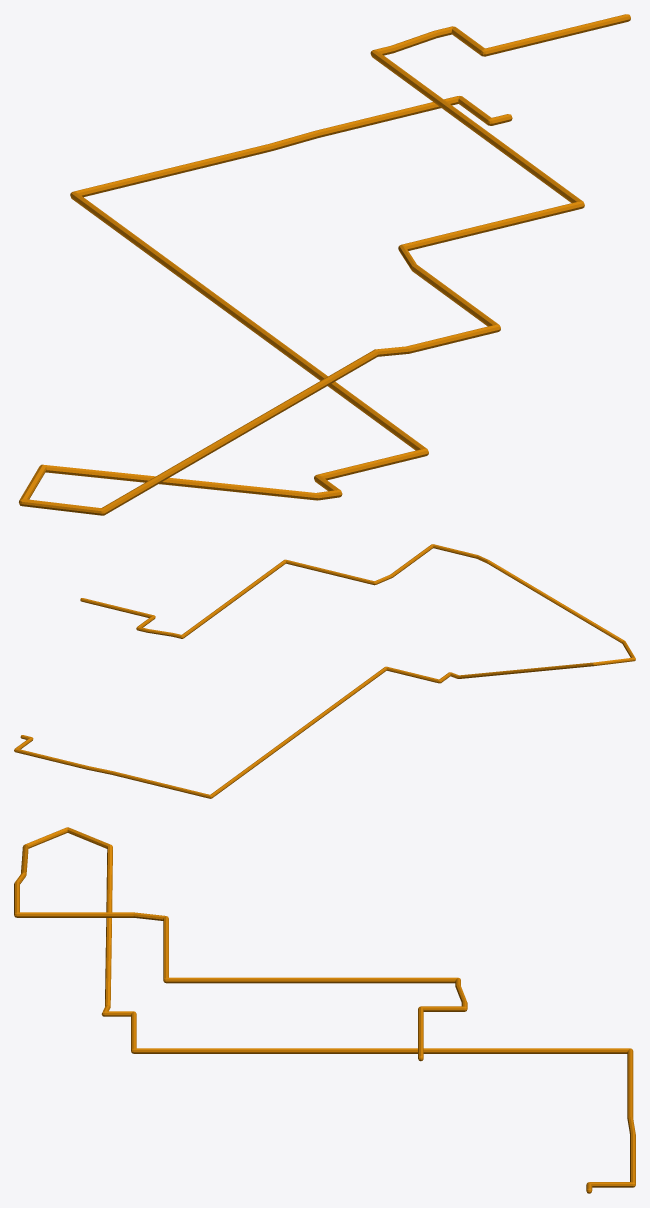
3 views of the same model, one above another, from view 1: azimuth 30°, elevation 25°; view 2: azimuth 150°, elevation 25°; view 3: azimuth 270°, elevation 25° (orthographic). The views are drawn at different scales.
Size of the model in its own units: 2409 by 520 by 2129.
